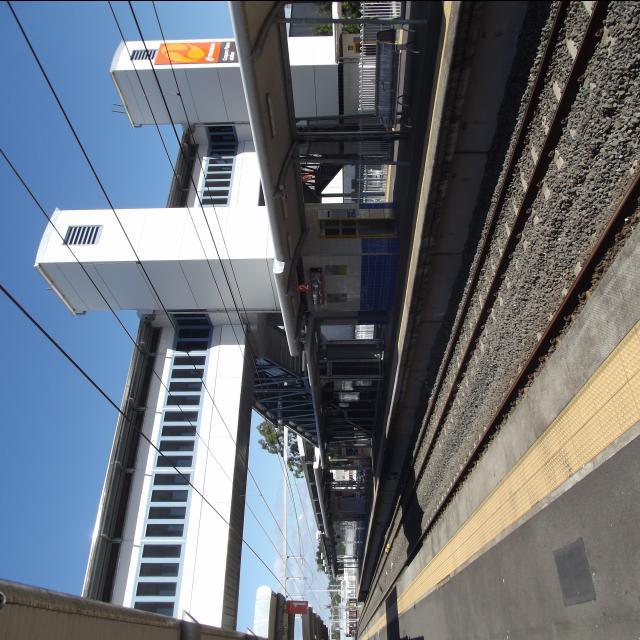tactile-guide-path: (397, 317, 639, 616)
